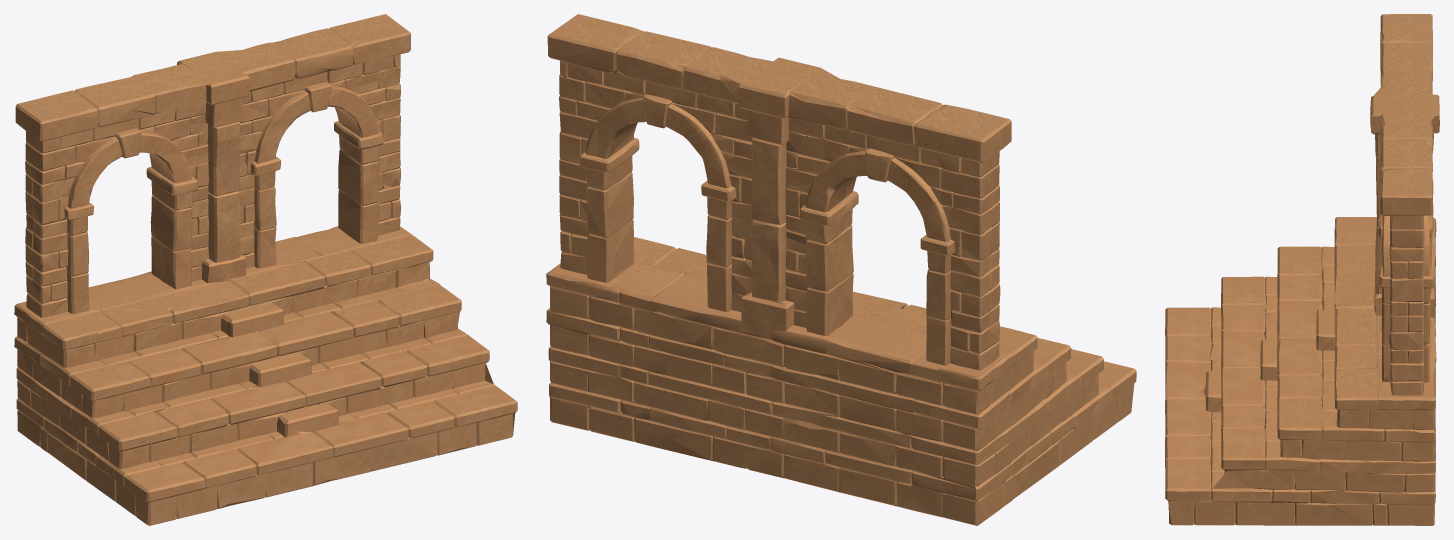
Rendered from stands.glb.
The picture shows the model from 3 angles, left to right: view 1: azimuth 30°, elevation 25°; view 2: azimuth 150°, elevation 25°; view 3: azimuth 270°, elevation 25°; orthographic projection. The views are drawn at different scales.
Bounding box in the file's own units: 1.9 × 1.61 × 1.2.
Materials: 1 (1 with a texture image).
